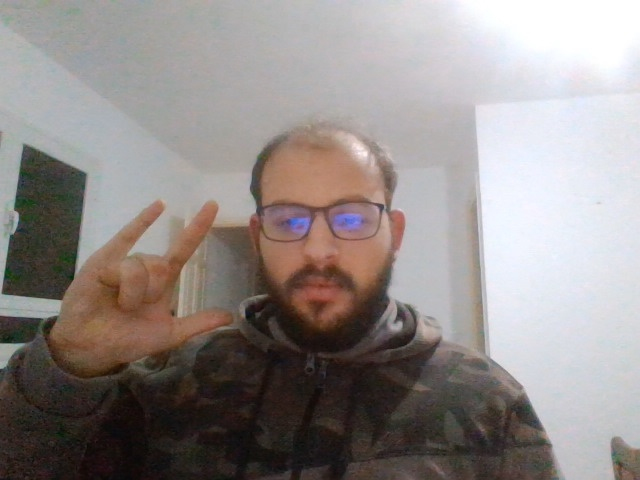I Love You: (67, 198, 235, 356)
